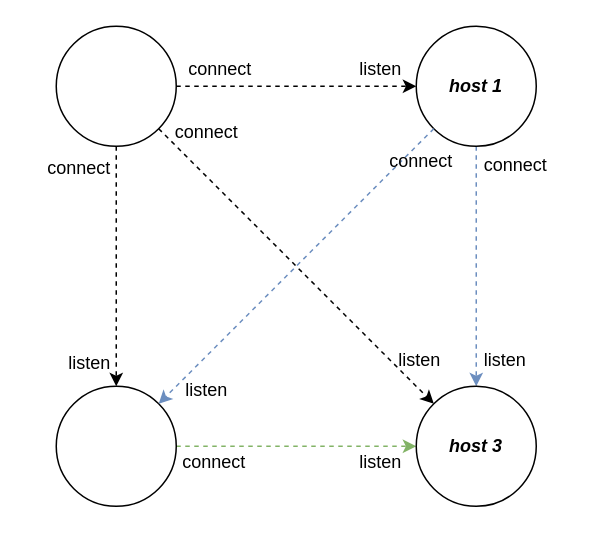
This 593x533 diagram has some shape labels left out. The centre of each missing label's shape, as x and y in pixels:
"host 0" goes at point 115,85.
"host 2" goes at point 115,445.
